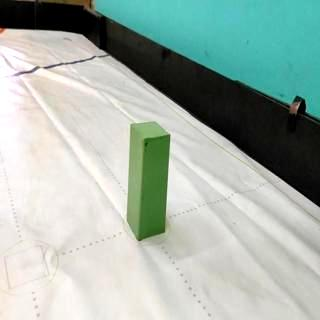greenbox: (126, 120, 172, 242)
